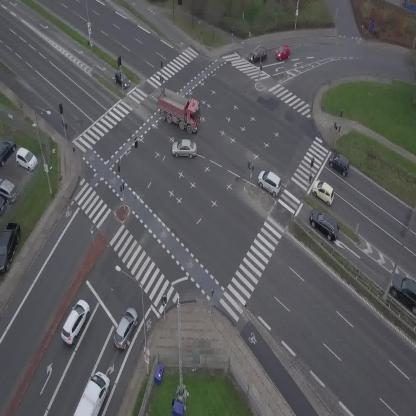car: (57, 297, 95, 347), (108, 304, 143, 351), (304, 204, 345, 244), (254, 167, 287, 198), (308, 176, 340, 207), (326, 150, 354, 176), (110, 68, 132, 91), (172, 139, 197, 158), (247, 47, 269, 63), (273, 45, 292, 61)
lorry: (150, 85, 208, 135), (73, 369, 115, 416)
